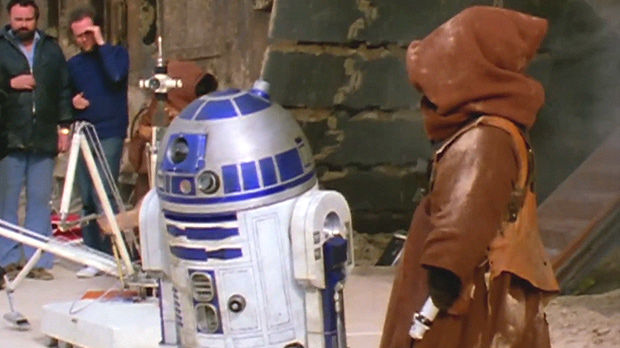r2d2: (138, 79, 355, 348)
